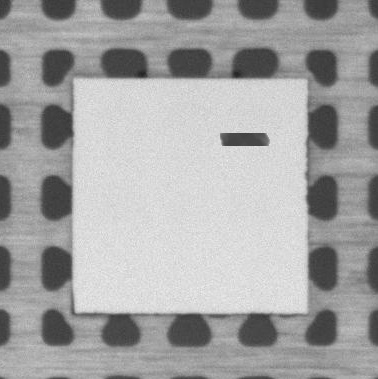DIE_INK: (219, 133, 270, 146)
